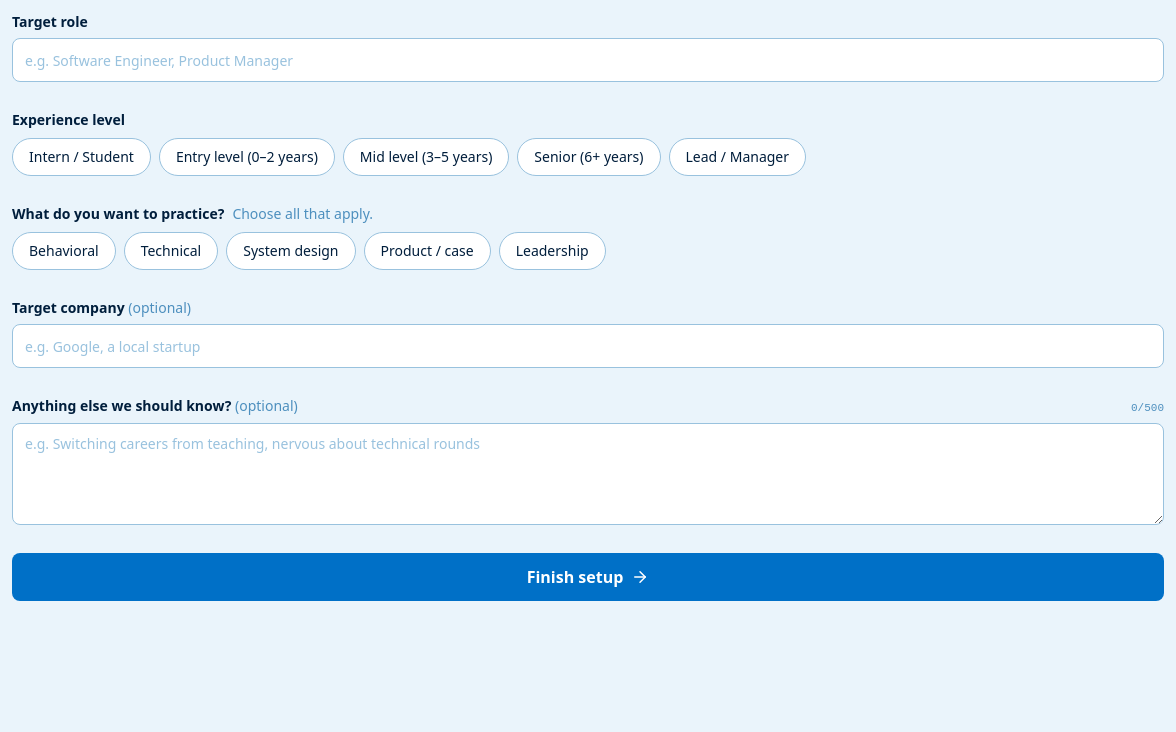
Test: SetupForm › shows validation messages and does not submit when required info is missing
Click the button "Finish setup".
click(588, 576)  # box [12, 552, 1164, 600]
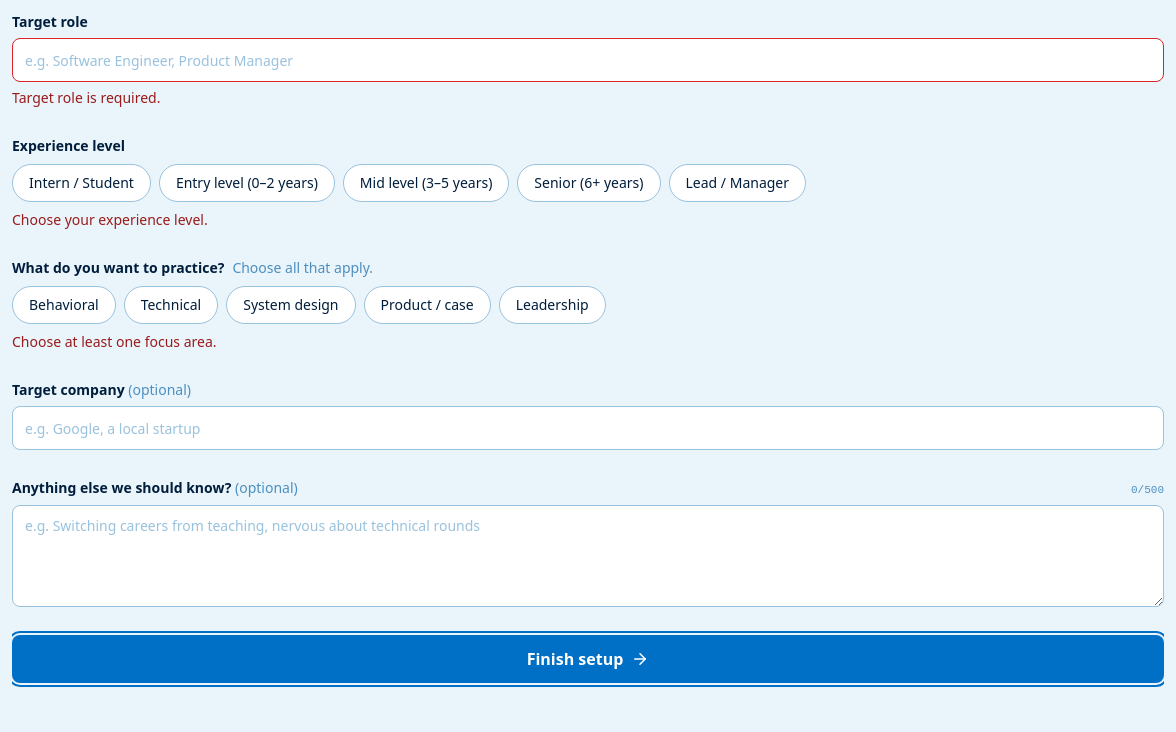
Expected: the text "Target role is required." is shown, [12, 88, 160, 107]
Expected: the text "Choose your experience level." is shown, [12, 210, 208, 229]
Expected: the text "Choose at least one focus area." is shown, [12, 332, 216, 351]
